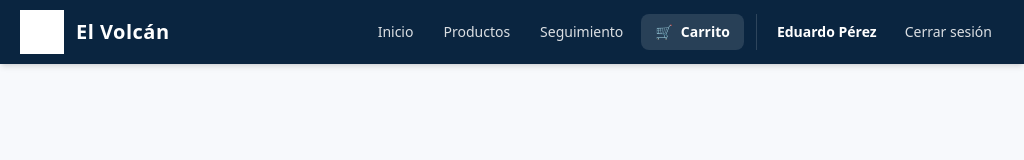
Test: Pruebas Unitarias - Comportamiento de Componentes y Manipulación del DOM › 13. Navbar: Renderiza el nombre del cliente, botón 'Seguimiento' y 'Cerrar sesión' cuando es cliente, ocultando 'Reparto', y al cerrar sesión los oculta
Expected: the text "Eduardo Pérez" is shown, [777,22,877,41]
Expected: the button "Seguimiento" is shown, [528,14,635,50]
Click the button "Cerrar sesión" at point(948, 32), box [893,14,1004,50]
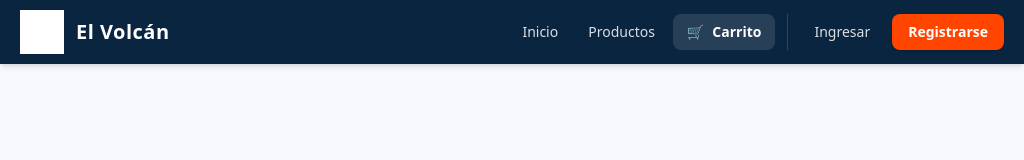
Now the text "Eduardo Pérez" is gone
Now the button "Seguimiento" is gone
Now the button "Ingresar" is shown, box [800,14,884,50]
